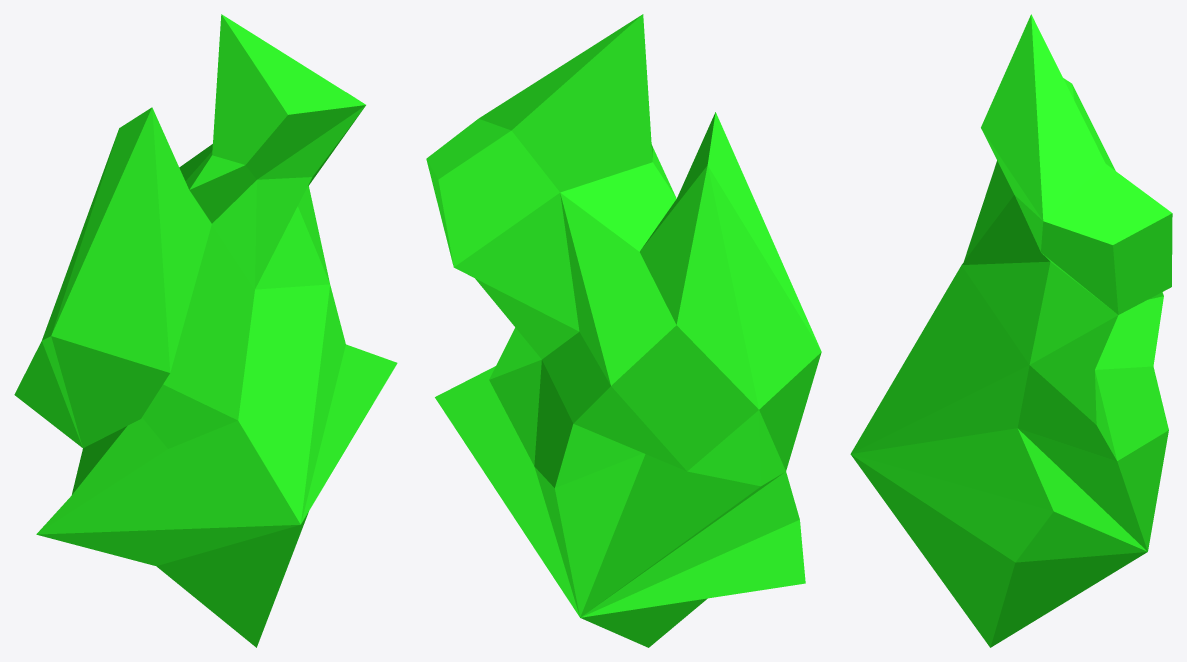
Rendered from Totem(Mesh).fbx.
3 views of the same model, side by side, from view 1: azimuth 30°, elevation 25°; view 2: azimuth 150°, elevation 25°; view 3: azimuth 270°, elevation 25° (orthographic). The views are drawn at different scales.
Visible parts, largest first — view 1: Plane; view 2: Plane; view 3: Plane.
Part boxes in pixels (x1,y1,x2,y2): Plane: [14, 14, 397, 647]; Plane: [426, 14, 821, 647]; Plane: [850, 14, 1172, 647].
Size of the model in its own units: 706 by 1174 by 547.
